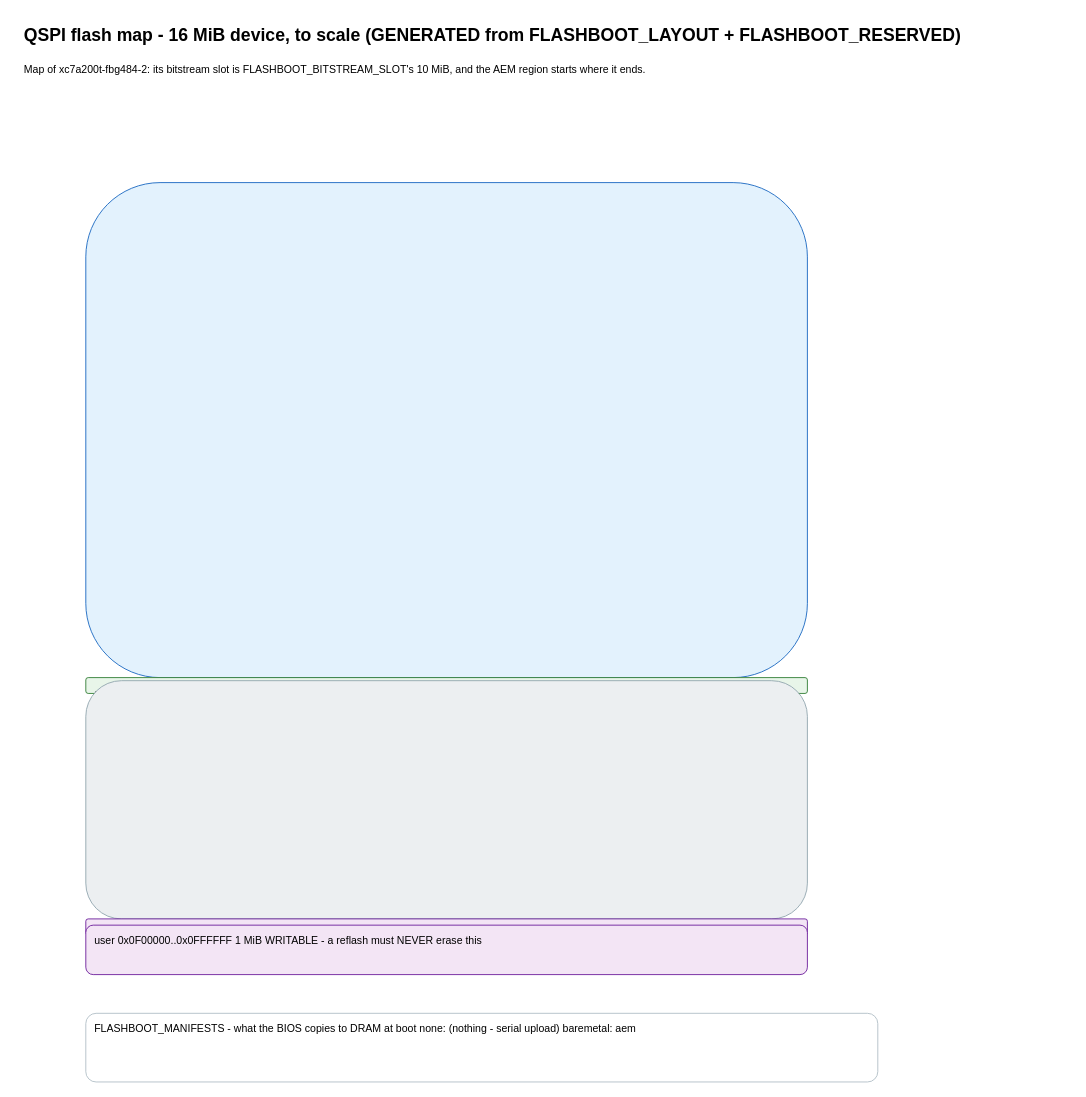
The diagram is 1086 pixels wide and 1097 high, and some of its shapes have lost their labels. Each missing label, with the centre of its shape:
"(free) 0x0A10000..0x0EDFFFF 4.81 MiB" belongs at (446,799).
"bitstream 0x0000000..0x09FFFFF 10 MiB -> DRAM 0x00000000" belongs at (446,430).
